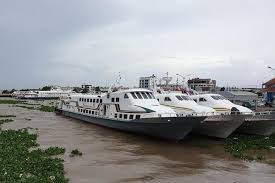tau_dansu: (57, 82, 200, 146), (155, 90, 246, 139), (198, 91, 275, 136)
